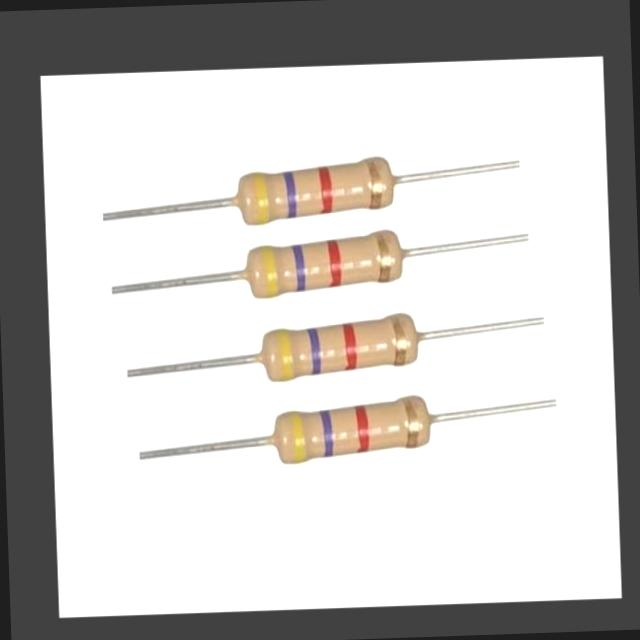Resistor: (242, 229, 403, 297), (234, 156, 393, 224), (271, 396, 430, 463), (259, 319, 415, 380)
gold: (403, 396, 419, 451), (391, 312, 406, 370), (376, 230, 392, 284), (368, 157, 383, 211)
purple: (289, 243, 307, 292), (283, 170, 298, 220), (319, 410, 334, 458), (307, 328, 321, 377)
red: (356, 403, 370, 454), (328, 238, 341, 290), (319, 166, 333, 214), (345, 322, 358, 373)
yellow: (291, 409, 303, 464), (255, 169, 266, 227), (281, 324, 291, 385), (264, 243, 275, 298)
